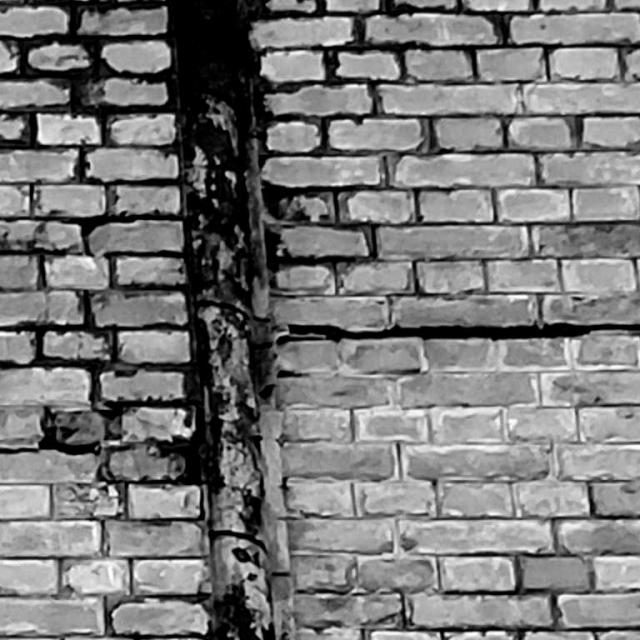crack: (273, 322, 640, 347)
